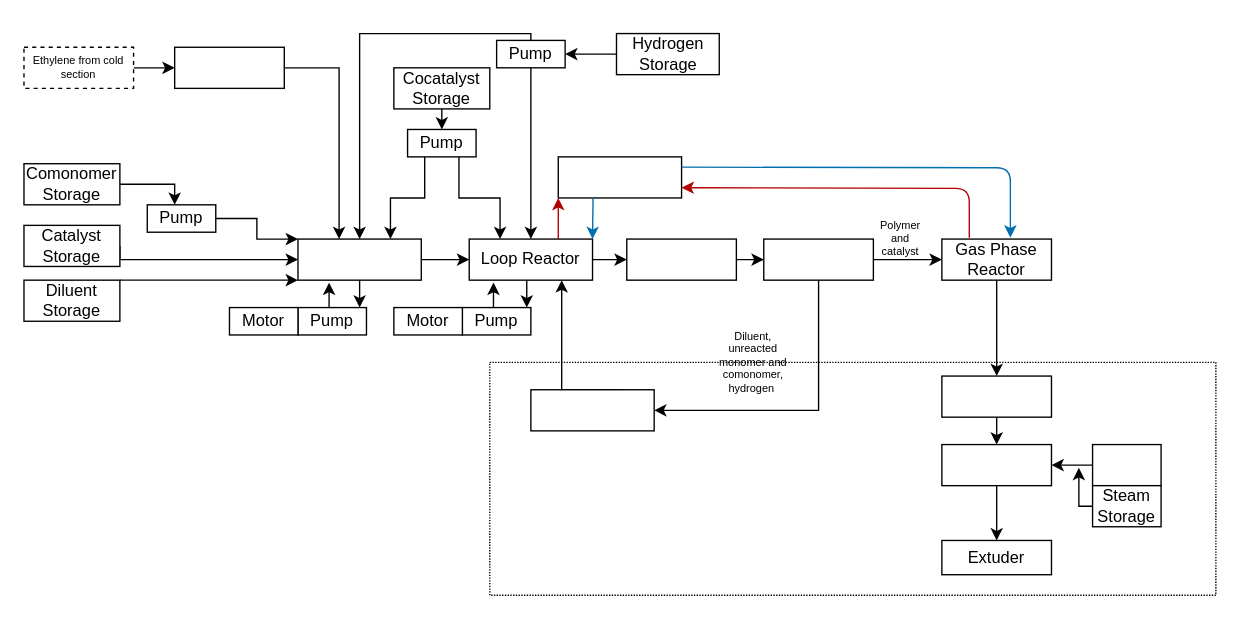
The diagram is 1240 pixels wide and 619 high, and some of its shapes have lost their labels. The centre of each missing label's shape, as x and y in pixels:
"Compressor" belongs at (228,67).
"Coolant system" belongs at (619,176).
"Flash Tank" belongs at (817,259).
"Hydrocyclone" belongs at (680,259).
"N 2 and Steam Treatment" belongs at (996,464).
"N 2 Storage" belongs at (1126,464).
"Prepoly Loop Reactor" belongs at (359,259).
"Product Reciever" belongs at (996,396).
"Separation" belongs at (592,409).
